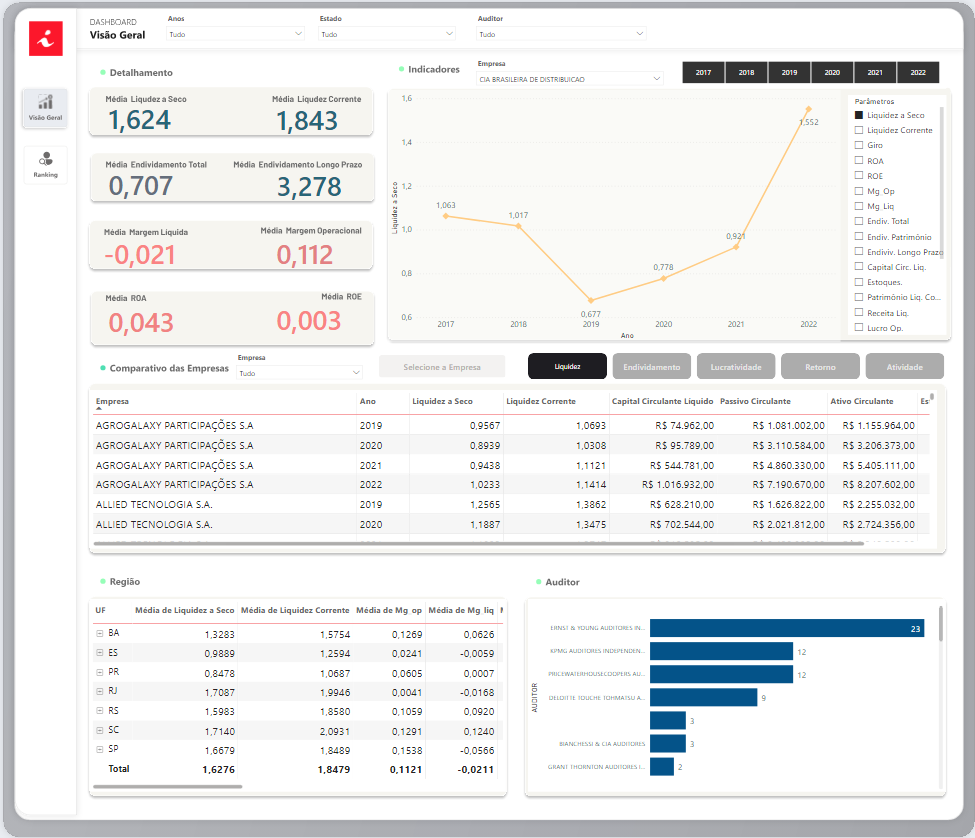

Layout of this report page (visuals, bound fields, positions):
{"tool":"powerbi","page":{"name":"Visão Geral","canvas":[1920,1724],"ordinal":0},"visuals":[{"type":"lineChart","fields":{"Y":["aMedidas.Liquidez a Seco"],"Category":["Indicadores - GIC.DT_FIM_EXERC"]},"box":[767.1,225.3,863.6,481],"z":0},{"type":"slicer","fields":{"Values":["zParâmetro.zParâmetro"]},"box":[1645,235,188.3,458.3],"z":1000},{"type":"slicer","fields":{"Values":["Indicadores - GIC.DENOM_CIA"]},"box":[926.2,160,377.5,60],"z":2000},{"type":"slicer","fields":{"Values":["Indicadores - GIC.DT_FIM_EXERC"]},"box":[1303.1,164.5,539.8,54.8],"z":3000},{"type":"bookmarkNavigator","box":[1035,727.9,798,50.8],"z":4000},{"type":"tableEx","fields":{"Values":["Detalhes - GIC.DENOM_SOCIAL","Indicadores - GIC.DT_FIM_EXERC","Indicadores - GIC.Liquidez a Seco","Indicadores - GIC.Liquidez Corrente","Indicadores - GIC.Capital Circulante Líquido","Indicadores - GIC.Passivo Circulante","Indicadores - GIC.Ativo Circulante","Indicadores - GIC.Estoques"]},"box":[198.7,798.3,1617.1,303.2],"z":5000},{"type":"actionButton","box":[750,731.7,241.7,43.3],"z":10000},{"type":"pivotTable","fields":{"Rows":["Detalhes - GIC.UF","Indicadores - GIC.DT_FIM_EXERC"],"Values":["Avg(Indicadores - GIC.Liquidez a Seco)","Avg(Indicadores - GIC.Liquidez Corrente)","Avg(Indicadores - GIC.Mg_op)","Avg(Indicadores - GIC.Mg_liq)","Avg(Indicadores - GIC.Giro)","Avg(Indicadores - GIC.ROA)","Avg(Indicadores - GIC.ROE)","Avg(Indicadores - GIC.Endividamento Total)","Avg(Indicadores - GIC.Endividamento sobre Patrimônio)","Avg(Indicadores - GIC.Endividamento a Longo Prazo)"]},"box":[198.5,1198,793.9,368.3],"z":11000},{"type":"actionButton","box":[71.7,331.8,81.5,74.5],"z":12000},{"type":"slicer","fields":{"Values":["Indicadores - GIC.DENOM_CIA"]},"box":[468.3,721.7,261.7,63.3],"z":13000},{"type":"slicer","fields":{"Values":["Detalhes - GIC.AUDITOR"]},"box":[926.7,75,345,63.3],"z":14000},{"type":"slicer","fields":{"Values":["Detalhes - GIC.UF"]},"box":[625,75,283.3,63.3],"z":15000},{"type":"slicer","fields":{"Values":["Indicadores - GIC.DT_FIM_EXERC"]},"box":[335,75,285,63.3],"z":16000},{"type":"multiRowCard","title":"Média Liquidez a Seco","fields":{"Values":["aMedidas.Liquidez a Seco"]},"box":[230.1,239.8,257.4,83.8],"z":17000},{"type":"multiRowCard","title":"Média Liquidez Corrente","fields":{"Values":["aMedidas.Liquidez Corrente"]},"box":[549.8,241.8,257.4,83.8],"z":18000},{"type":"multiRowCard","title":"Média Endividamento Total","fields":{"Values":["aMedidas.Endividamento Total"]},"box":[230.1,366.5,257.4,83.8],"z":19000},{"type":"multiRowCard","title":"Média Endividamento Longo Prazo","fields":{"Values":["aMedidas.Endividamento Longo Prazo"]},"box":[549.8,368.5,257.4,83.8],"z":20000},{"type":"multiRowCard","title":"Média Margem Líquida","fields":{"Values":["aMedidas.Margem Liquida"]},"box":[219.9,498.9,257.5,85.8],"z":21000},{"type":"multiRowCard","title":"Média Margem Líquida","fields":{"Values":["aMedidas.Margem Operacional"]},"box":[548.9,498.9,257.5,85.8],"z":22000},{"type":"multiRowCard","title":"Média ROA","fields":{"Values":["aMedidas.ROA"]},"box":[230.1,627.8,257.4,83.8],"z":23000},{"type":"multiRowCard","title":"Média ROE","fields":{"Values":["aMedidas.ROE"]},"box":[549.8,623.9,257.4,83.8],"z":24000},{"type":"barChart","fields":{"Category":["Detalhes - GIC.AUDITOR"],"Y":["aMedidas.Auditores por Empresa"]},"box":[1035.3,1198,797.5,368.3],"z":25000}]}

Visuals, with their boxes on the page's 1920x1724 design canvas (x1, y1, x2, y2). These are canvas units, not pixel positions in the 975x838 screenshot, which may show the page scaled, cropped or inside an application window:
lineChart - aMedidas.Liquidez a Seco x Indicadores - GIC.DT_FIM_EXERC: <region>767, 225, 1631, 706</region>
slicer - zParâmetro.zParâmetro: <region>1645, 235, 1833, 693</region>
slicer - Indicadores - GIC.DENOM_CIA: <region>926, 160, 1304, 220</region>
slicer - Indicadores - GIC.DT_FIM_EXERC: <region>1303, 164, 1843, 219</region>
bookmarkNavigator: <region>1035, 728, 1833, 779</region>
tableEx - Detalhes - GIC.DENOM_SOCIAL x Indicadores - GIC.DT_FIM_EXERC: <region>199, 798, 1816, 1102</region>
actionButton: <region>750, 732, 992, 775</region>
pivotTable - Detalhes - GIC.UF x Indicadores - GIC.DT_FIM_EXERC: <region>198, 1198, 992, 1566</region>
actionButton: <region>72, 332, 153, 406</region>
slicer - Indicadores - GIC.DENOM_CIA: <region>468, 722, 730, 785</region>
slicer - Detalhes - GIC.AUDITOR: <region>927, 75, 1272, 138</region>
slicer - Detalhes - GIC.UF: <region>625, 75, 908, 138</region>
slicer - Indicadores - GIC.DT_FIM_EXERC: <region>335, 75, 620, 138</region>
"Média Liquidez a Seco" multiRowCard: <region>230, 240, 488, 324</region>
"Média Liquidez Corrente" multiRowCard: <region>550, 242, 807, 326</region>
"Média Endividamento Total" multiRowCard: <region>230, 366, 488, 450</region>
"Média Endividamento Longo Prazo" multiRowCard: <region>550, 368, 807, 452</region>
"Média Margem Líquida" multiRowCard: <region>220, 499, 477, 585</region>
"Média Margem Líquida" multiRowCard: <region>549, 499, 806, 585</region>
"Média ROA" multiRowCard: <region>230, 628, 488, 712</region>
"Média ROE" multiRowCard: <region>550, 624, 807, 708</region>
barChart - Detalhes - GIC.AUDITOR x aMedidas.Auditores por Empresa: <region>1035, 1198, 1833, 1566</region>
